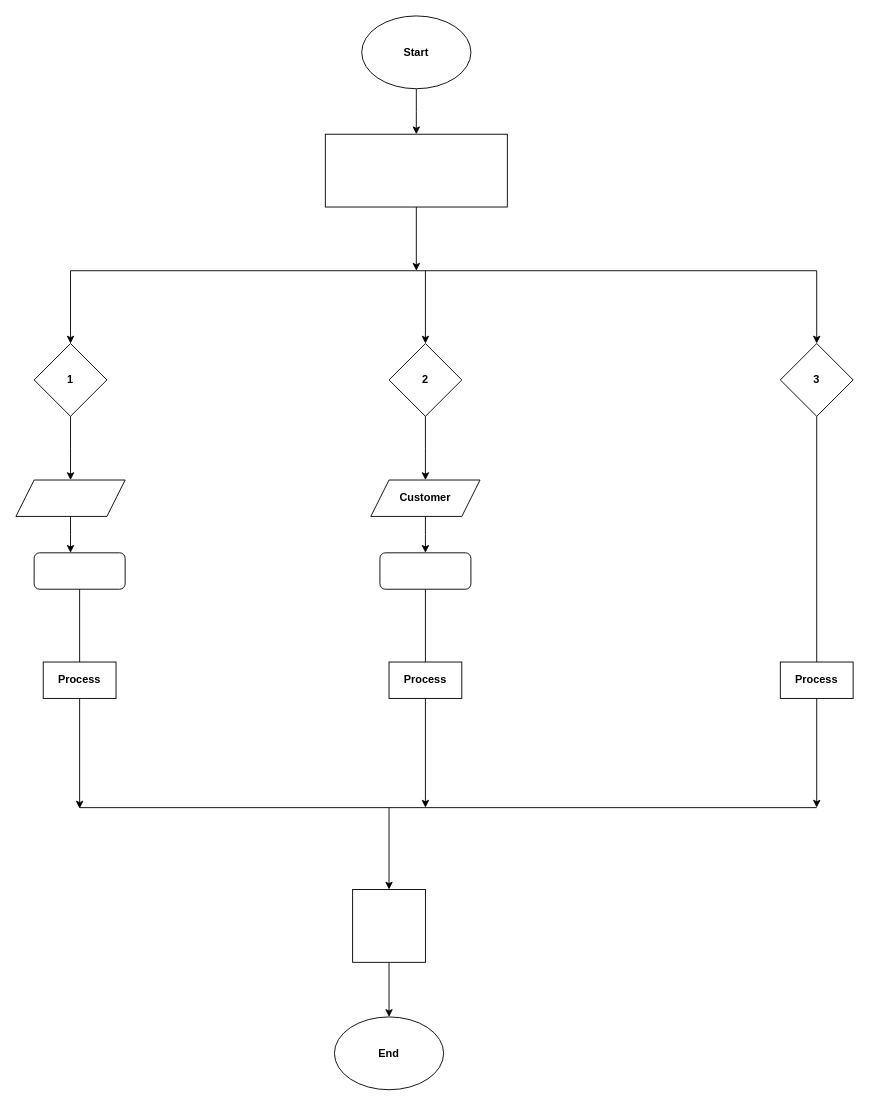
Some shapes in this 869 by 1106 pixel diagram are drawn without their labels. The shapes that lost their labels are listed below. From the top down, each one's centre as x and y in pixels, then its label:
At (415,170): "Welcome To Restaurant".
At (70,497): "Manager".
At (79,570): "Login".
At (425,570): "menu".
At (388,925): "Display Output".
